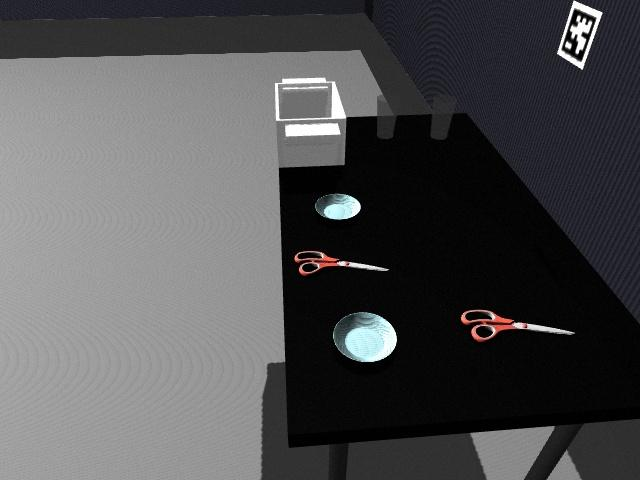cup: (430, 94, 457, 140), (376, 94, 396, 140)
plate: (331, 311, 399, 364), (313, 193, 362, 221)
scissors: (460, 308, 577, 343), (295, 249, 387, 276)
